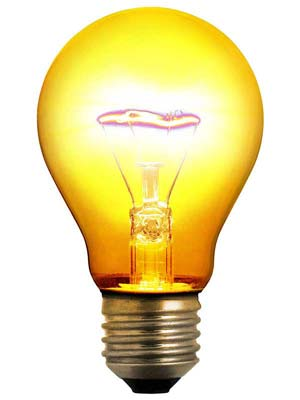Light_bulb: (32, 2, 268, 400)
